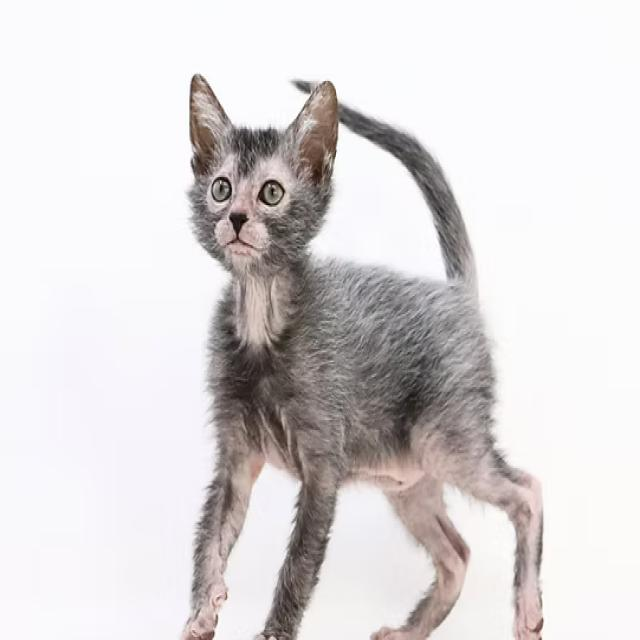Lykoi: (174, 59, 550, 640)
